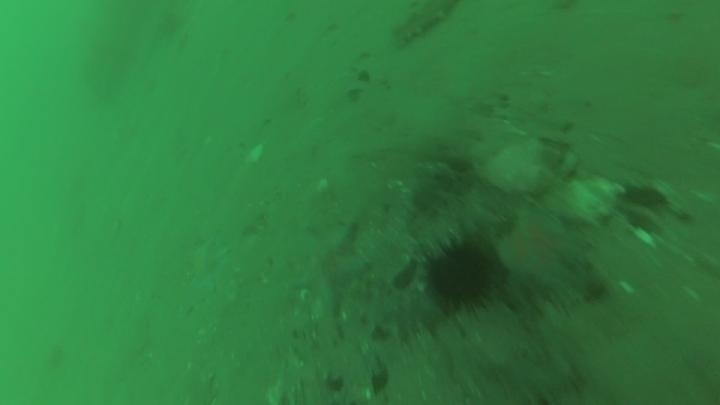echinus: (421, 237, 498, 313)
holothurian: (343, 278, 446, 342), (389, 1, 461, 50)
starfish: (495, 203, 588, 292), (287, 220, 372, 317)
